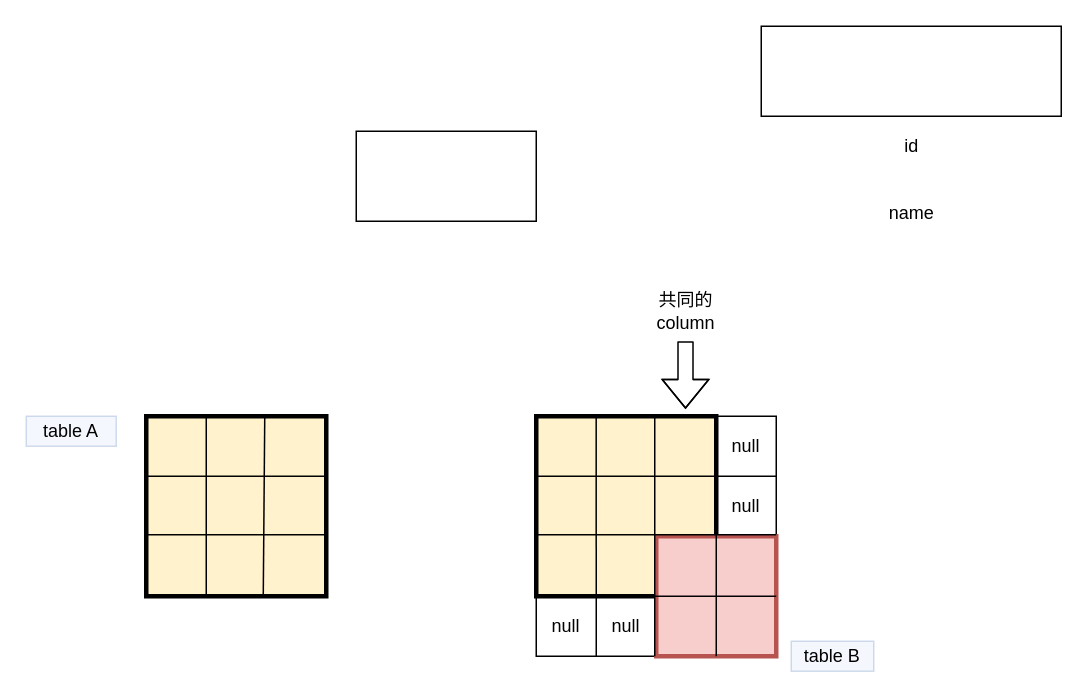
The diagram is 1088 pixels wide and 698 high, and some of its shapes have lost their labels. The shapes that lost their labels are listed below. From the top down, each one's box as (x1, y1, x2, y2) in pixels, then its label:
(760, 25, 1061, 116): assign_teams_members
(355, 130, 536, 221): members
